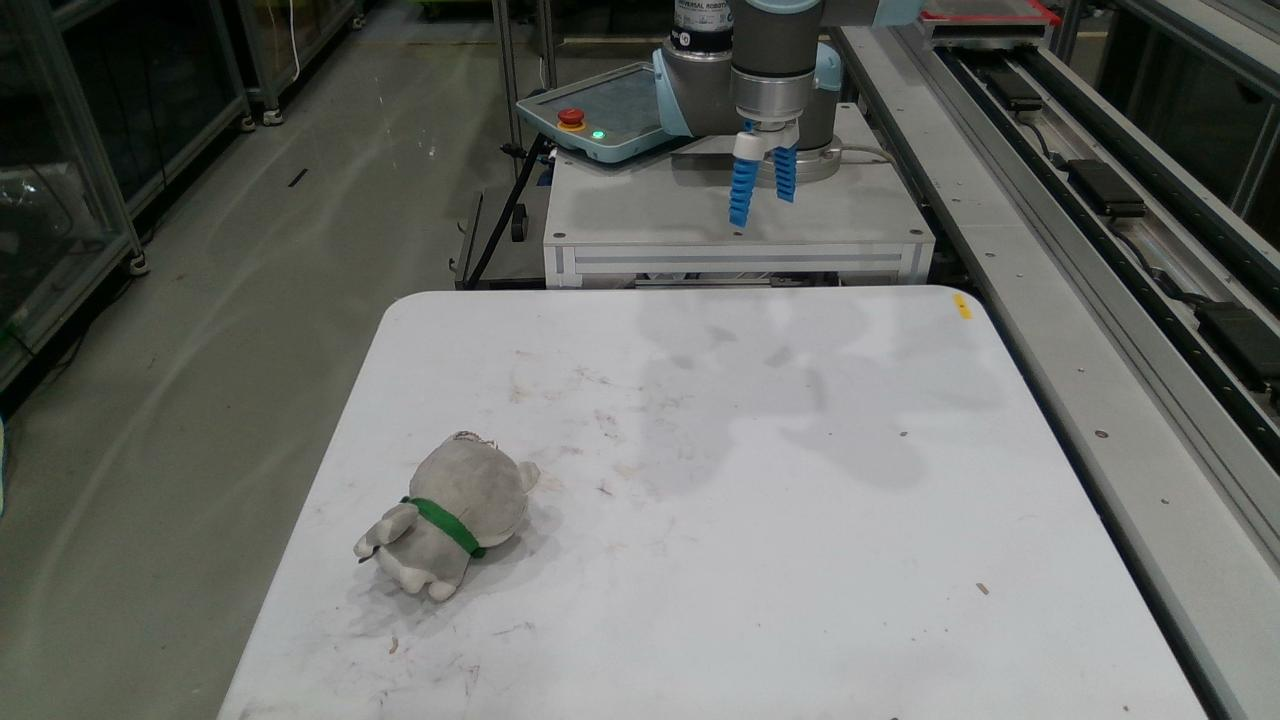UR5: (652, 0, 925, 183)
gripper_left: (729, 158, 758, 228)
gripper_right: (774, 143, 797, 203)
target: (354, 432, 542, 602)
